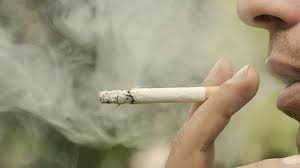sigaretta: (83, 85, 239, 104)
